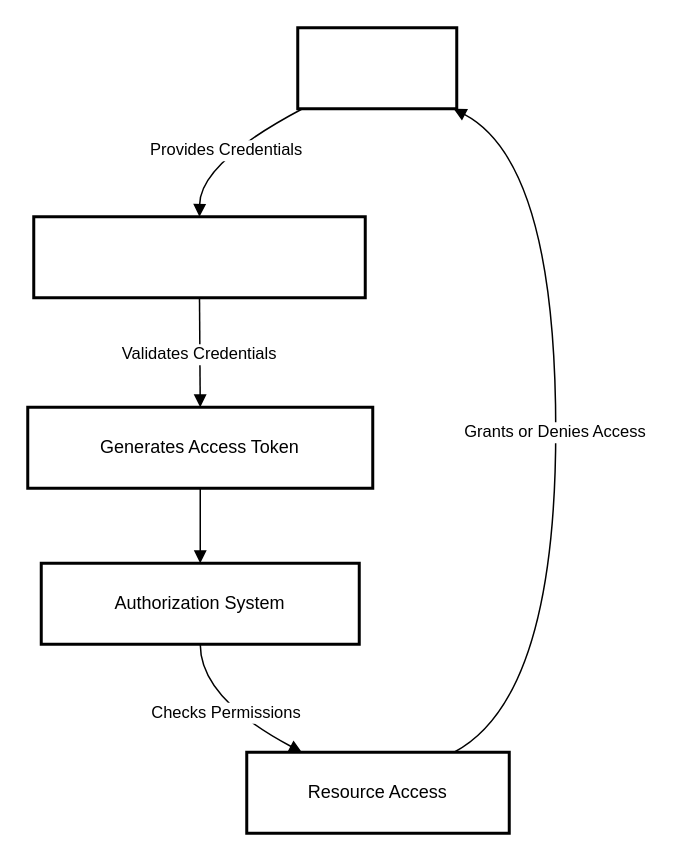
This 674x860 diagram has some shape labels left out. The shapes that lost their labels are listed below. From the top down, each one's centre as x and y in pixels, then its label:
[377,68]: Sensor
[199,256]: Authentication System
